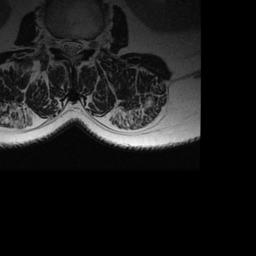CCS_normal: (68, 32, 75, 61)
LFS_normal: (83, 34, 91, 57)
LLS_normal: (75, 35, 83, 58)
RFS_normal: (51, 30, 59, 54)
RLS_normal: (60, 32, 67, 57)
